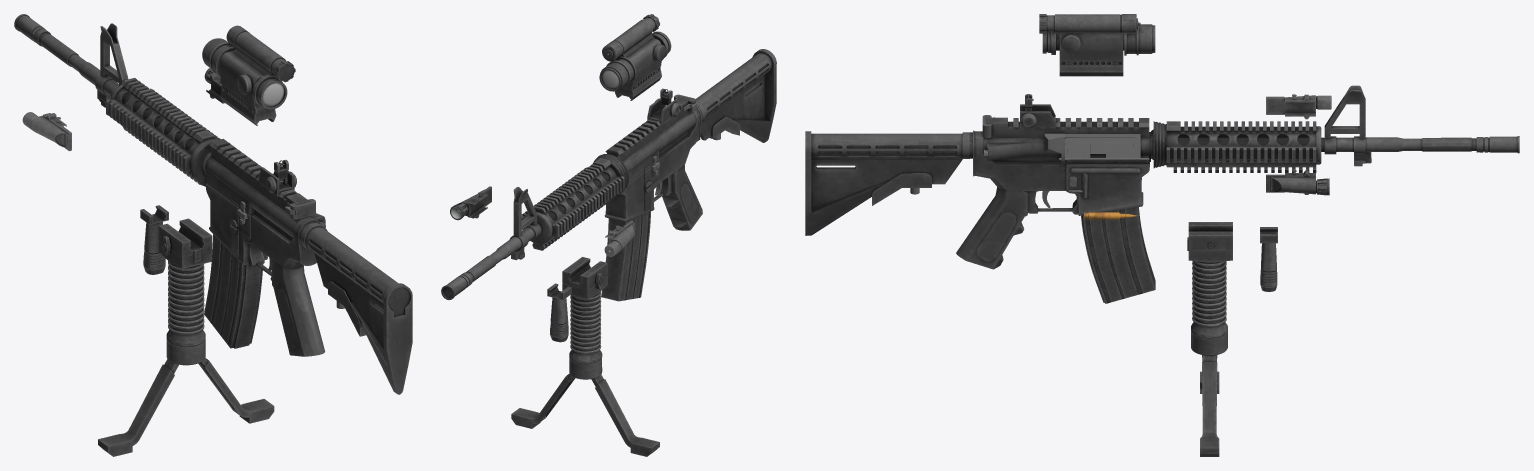
The model's file is m4_light_1.6mb.glb.
3 views of the same model, side by side, from view 1: azimuth 30°, elevation 25°; view 2: azimuth 150°, elevation 25°; view 3: azimuth 270°, elevation 25° (orthographic). The views are drawn at different scales.
Parts seen in each view (by area): view 1: M4_M4_0, HeavyForegrip_HeavyForegrip_0, Scope_Scope_0, Mag_Magazine_0, Foregrip_Foregrip_0, Laser_Laser_0, Sigth_Sigth_0; view 2: M4_M4_0, HeavyForegrip_HeavyForegrip_0, Scope_Scope_0, Mag_Magazine_0, Foregrip_Foregrip_0, Cylinder_Lantern_0, Sigth_Sigth_0, Laser_Laser_0; view 3: M4_M4_0, HeavyForegrip_HeavyForegrip_0, Scope_Scope_0, Mag_Magazine_0, Laser_Laser_0, Cylinder_Lantern_0, Foregrip_Foregrip_0, Sigth_Sigth_0.
Part boxes in pixels (x1=…): M4_M4_0: x1=14, y1=14, x2=412, y2=394; HeavyForegrip_HeavyForegrip_0: x1=98, y1=218, x2=274, y2=456; Scope_Scope_0: x1=202, y1=25, x2=295, y2=125; Mag_Magazine_0: x1=204, y1=234, x2=263, y2=348; Foregrip_Foregrip_0: x1=140, y1=205, x2=168, y2=274; Laser_Laser_0: x1=22, y1=112, x2=71, y2=151; Sigth_Sigth_0: x1=258, y1=160, x2=296, y2=196; M4_M4_0: x1=441, y1=49, x2=776, y2=299; HeavyForegrip_HeavyForegrip_0: x1=511, y1=257, x2=659, y2=456; Scope_Scope_0: x1=599, y1=14, x2=671, y2=100; Mag_Magazine_0: x1=601, y1=211, x2=650, y2=301; Foregrip_Foregrip_0: x1=547, y1=283, x2=571, y2=342; Cylinder_Lantern_0: x1=450, y1=186, x2=491, y2=220; Sigth_Sigth_0: x1=647, y1=88, x2=679, y2=125; Laser_Laser_0: x1=604, y1=220, x2=634, y2=256; M4_M4_0: x1=805, y1=85, x2=1519, y2=269; HeavyForegrip_HeavyForegrip_0: x1=1187, y1=222, x2=1232, y2=456; Scope_Scope_0: x1=1039, y1=14, x2=1155, y2=76; Mag_Magazine_0: x1=1081, y1=207, x2=1155, y2=303; Laser_Laser_0: x1=1266, y1=94, x2=1331, y2=119; Cylinder_Lantern_0: x1=1266, y1=169, x2=1329, y2=195; Foregrip_Foregrip_0: x1=1260, y1=227, x2=1277, y2=291; Sigth_Sigth_0: x1=1020, y1=94, x2=1055, y2=128.
Size of the model in its own units: 374 by 788 by 1241.
9 materials, 9 textured.
